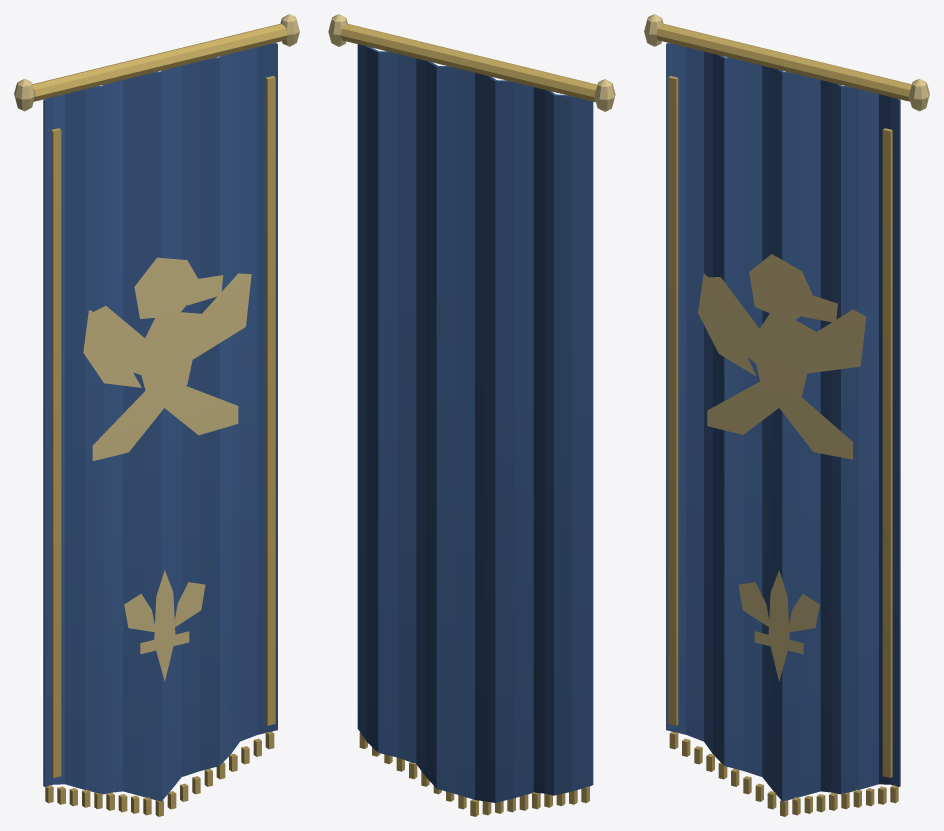
File: palace_banner_royal.glb
The picture shows the model from 3 angles, left to right: view 1: azimuth 30°, elevation 25°; view 2: azimuth 150°, elevation 25°; view 3: azimuth 330°, elevation 25°; orthographic projection.
Parts seen in each view (by area): view 1: palace_banner_royal; view 2: palace_banner_royal; view 3: palace_banner_royal.
Boxes of the visible parts, x1,y1,x2,y2 form: palace_banner_royal: (14, 14, 299, 816); palace_banner_royal: (328, 14, 615, 816); palace_banner_royal: (644, 14, 929, 816).
Bounding box in the file's own units: 0.9 × 2.33 × 0.0759.
